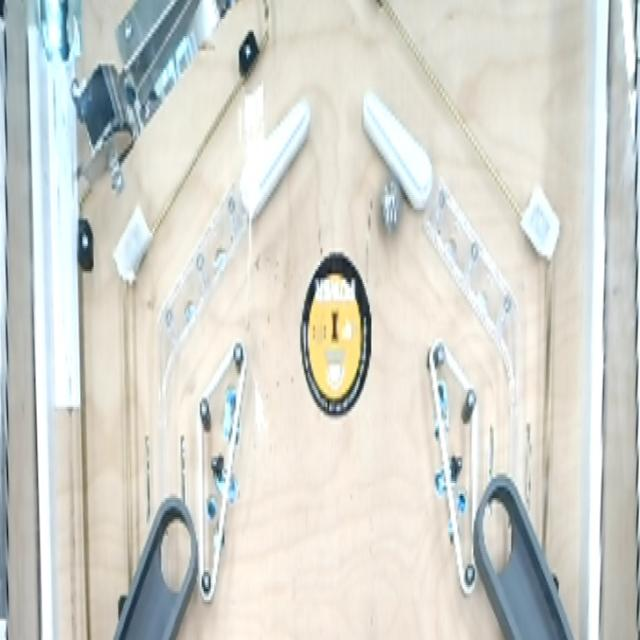ball: (375, 178, 406, 249)
flipper-left: (356, 79, 438, 223)
flipper-right: (239, 86, 311, 227)
